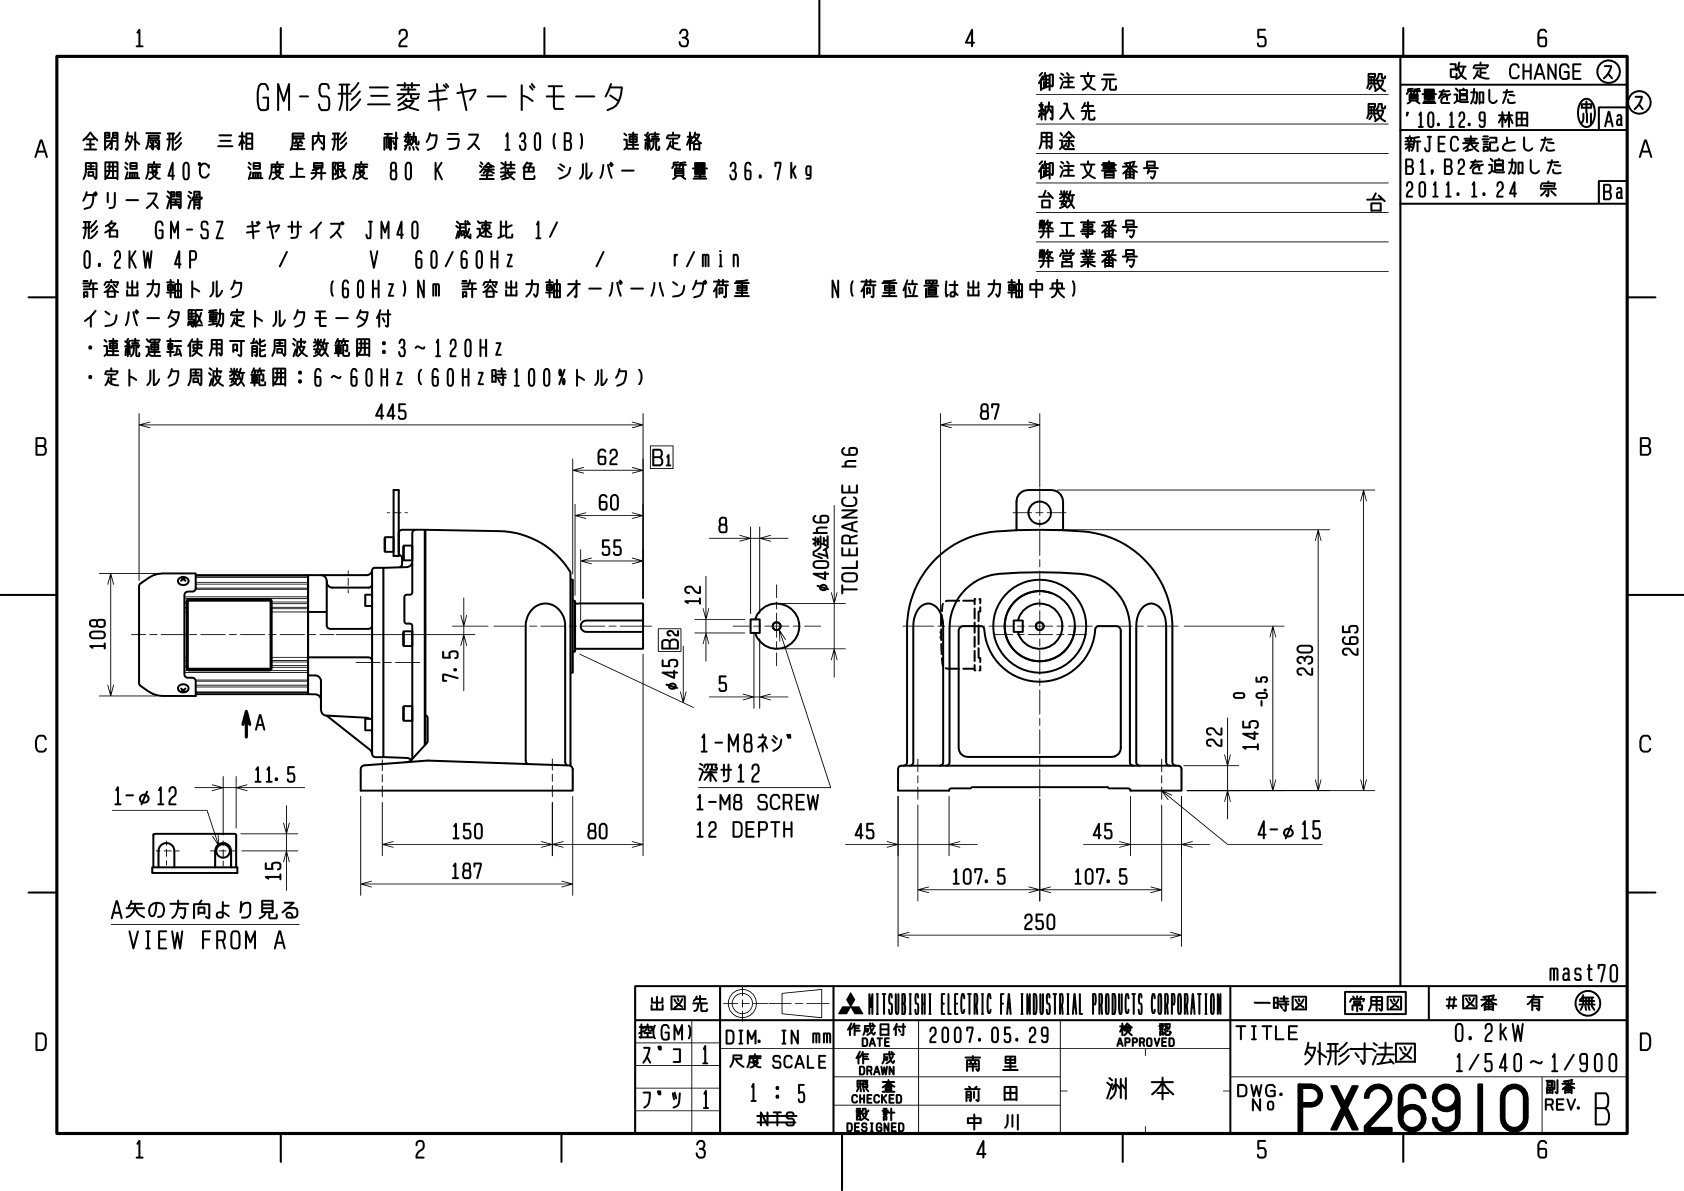GM_S_インバタ屋外＿三相_脚: (73, 394, 1381, 971)
